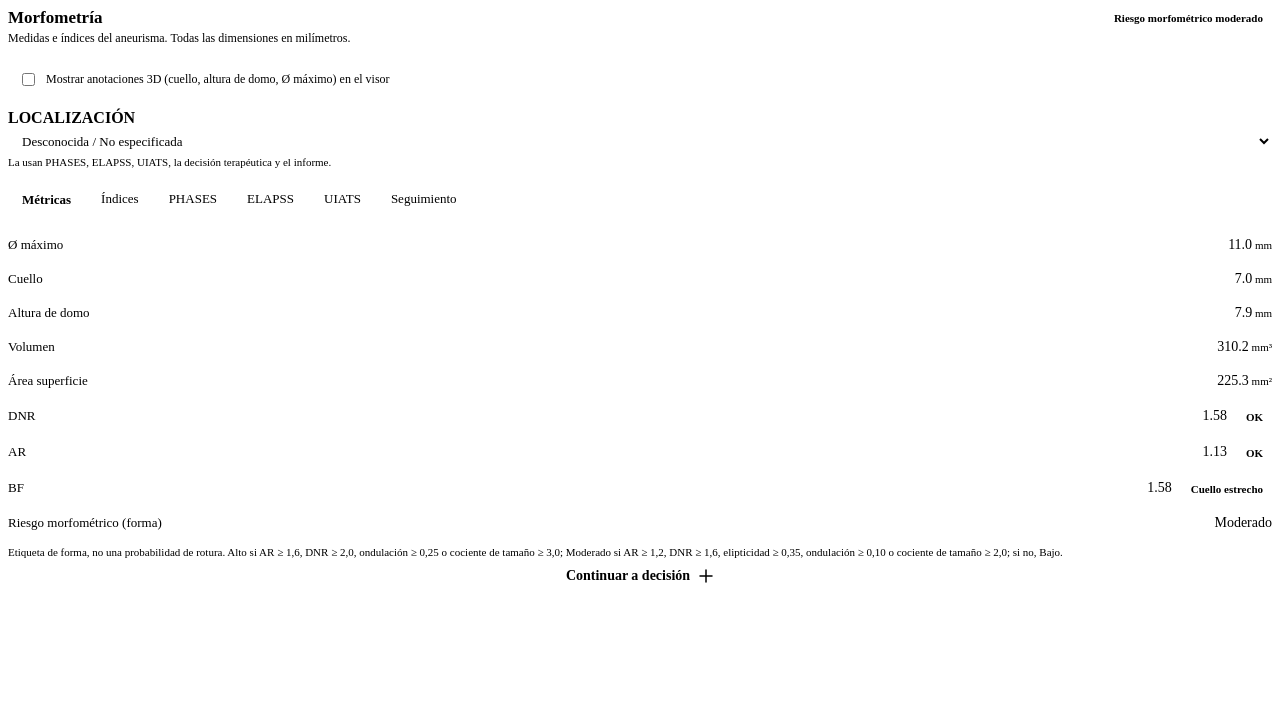
Scenario: SR con el cuello estimado › lo marca orientativo y dice por qué
Click the button "Índices".
click(120, 200)  # box 87,182 -> 153,216
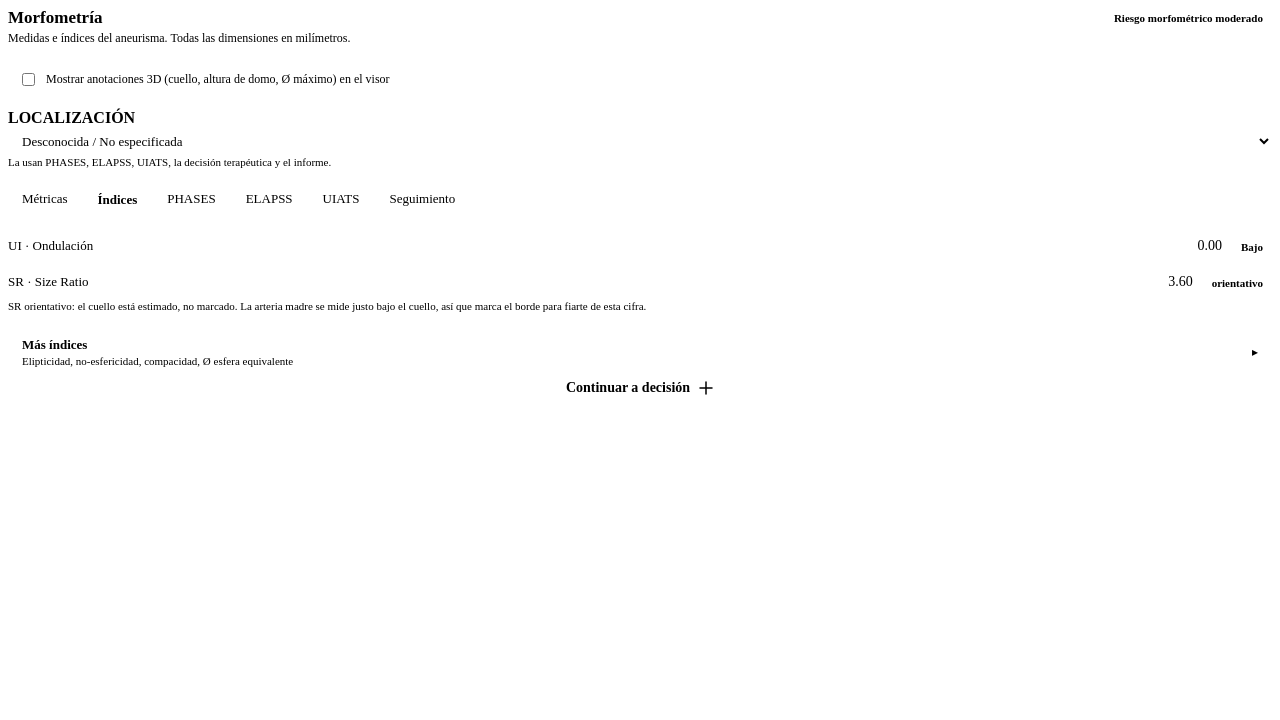
Expected: the text "orientativo" is shown, 1212,276 -> 1263,288
Expected: the text "Alto" is gone
Expected: the text "SR orientativo: el cuello está estimado" is shown, 8,300 -> 646,312
